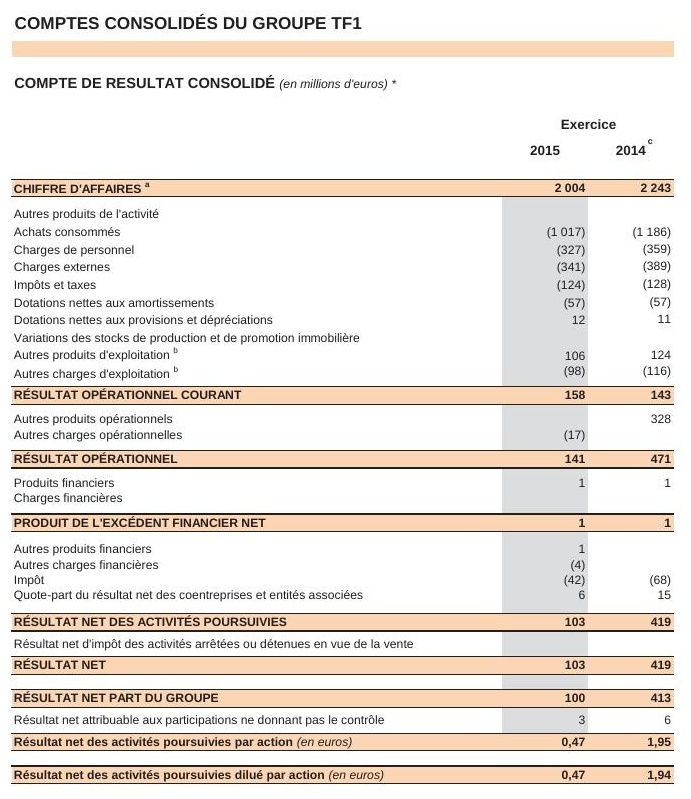table: (0, 0, 691, 799)
